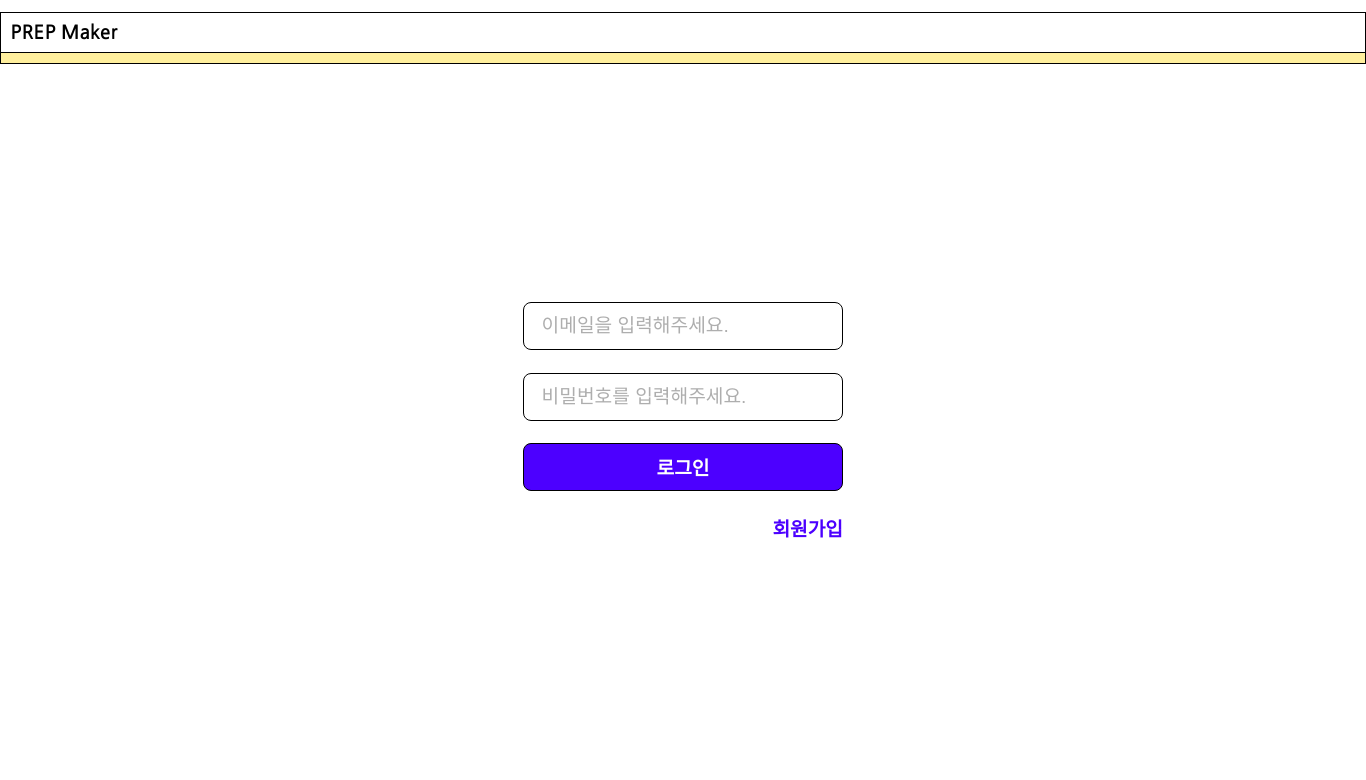
Test case: App › Writing Page › 로그아웃 하면 로그인 페이지로 전환된다.
Type "hyemin@email.com" into the field with placeholder "이메일을 입력해주세요." at (683, 326), box [532,311,834,341]
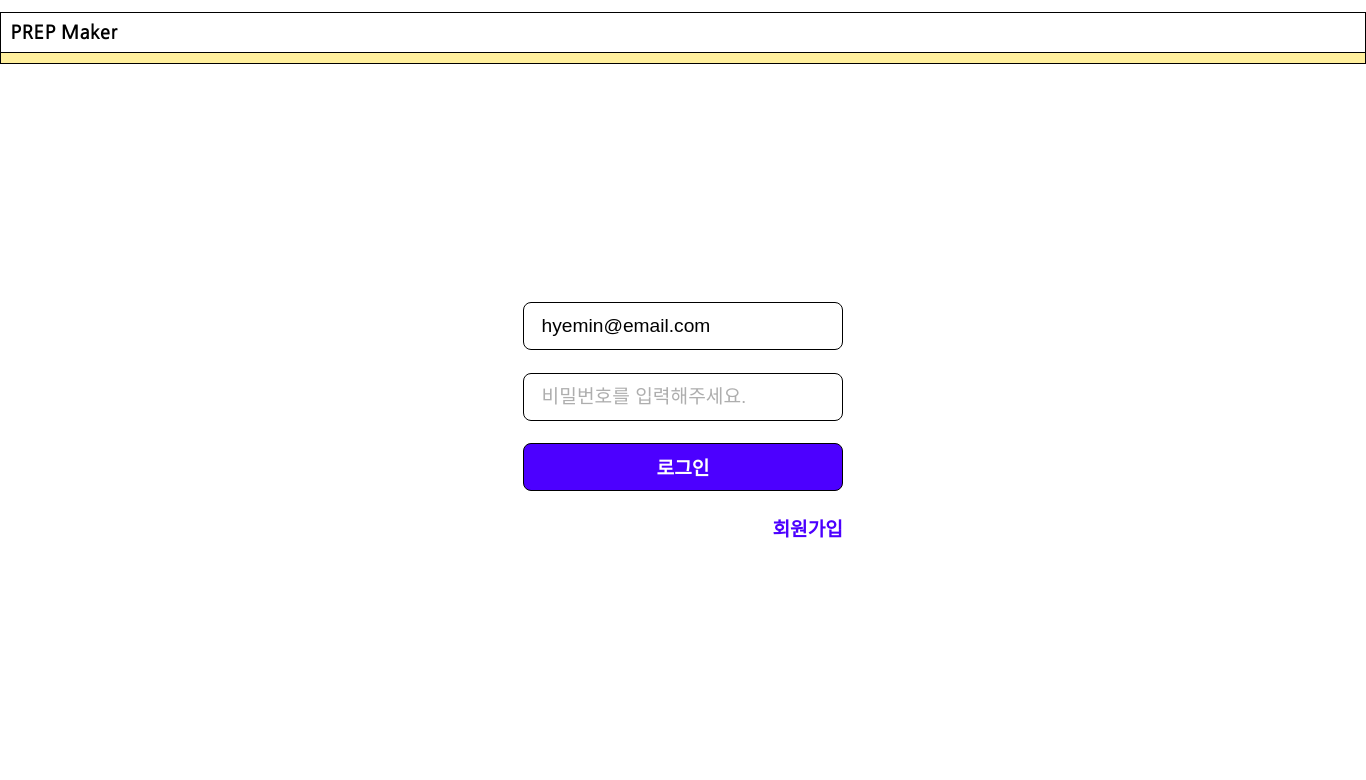
Type "password123" into the password field with placeholder "비밀번호를 입력해주세요." at (683, 397), box [532,382,834,412]
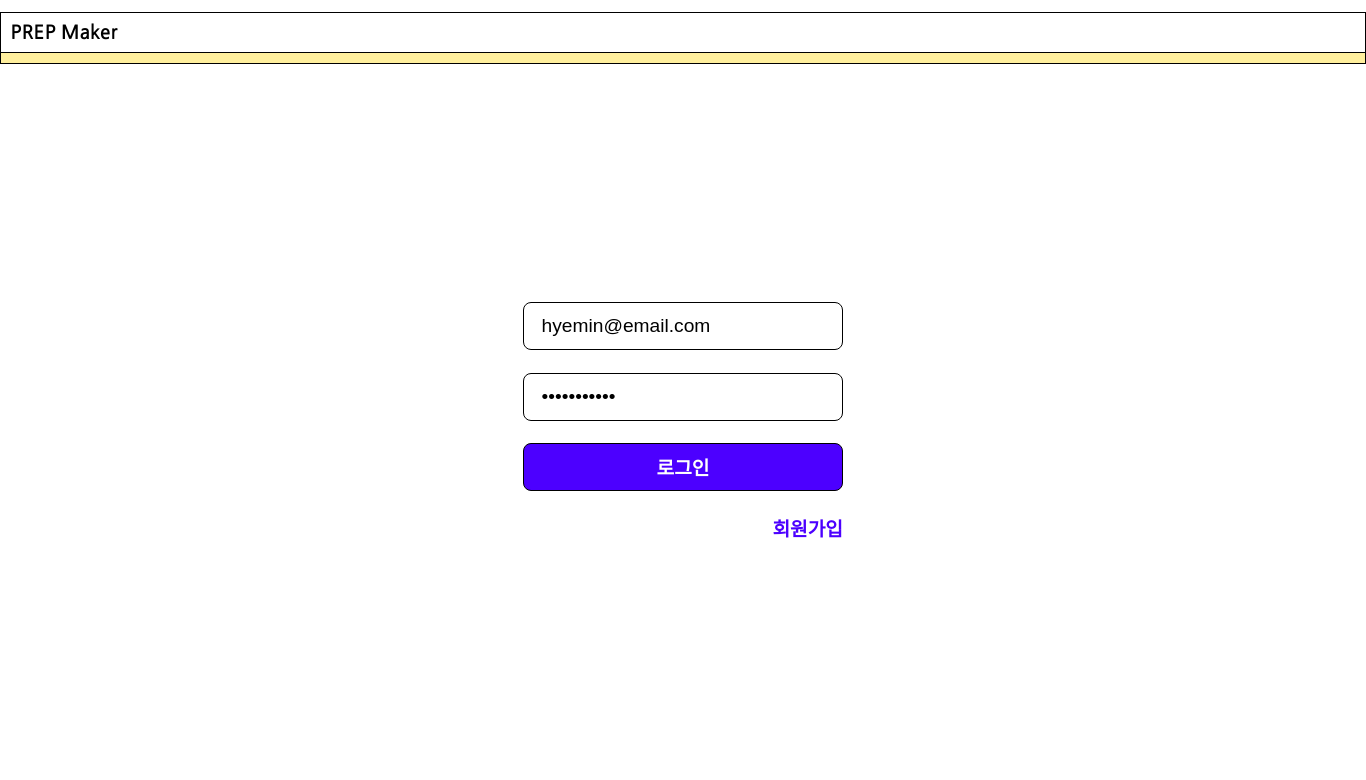
Click the button "로그인" at (683, 467), box [523,443,843,491]
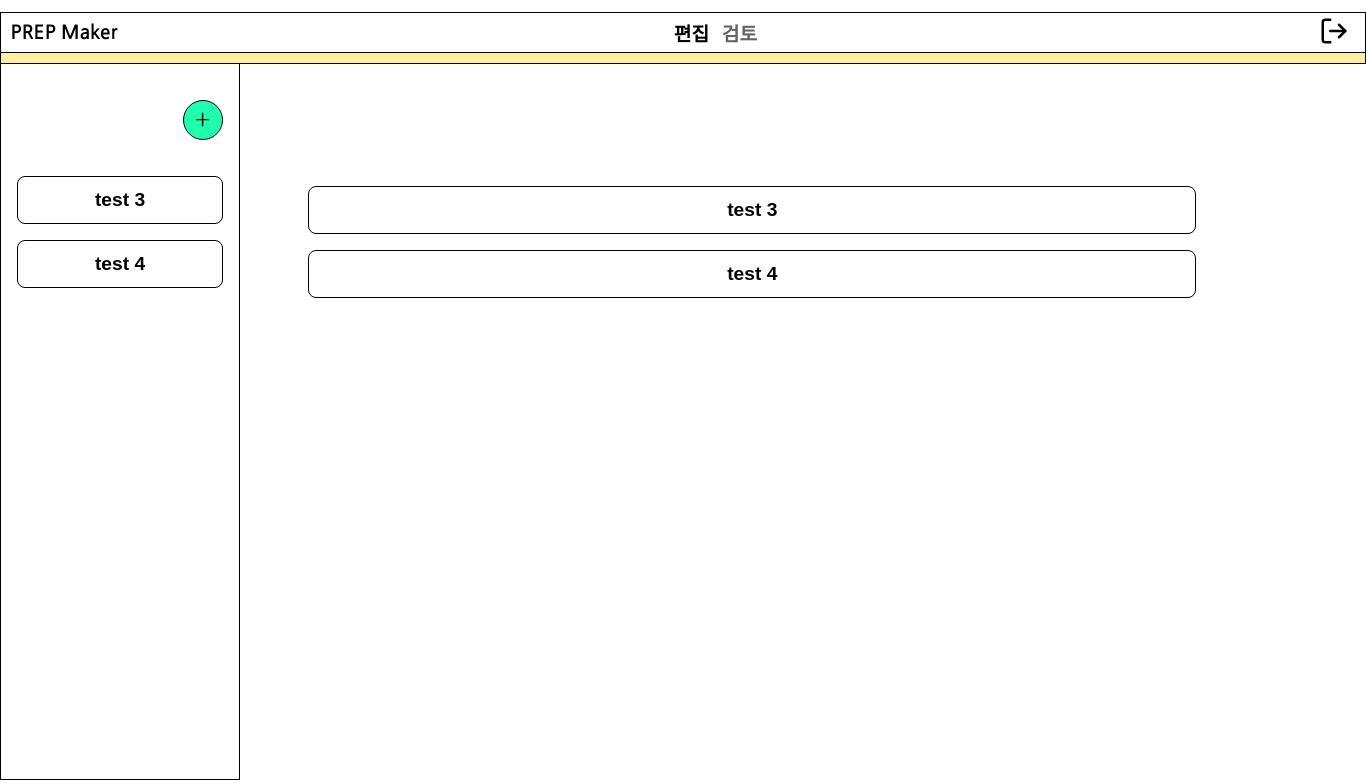
Click the button titled "logout" at (1334, 32), box [1313,15,1355,50]
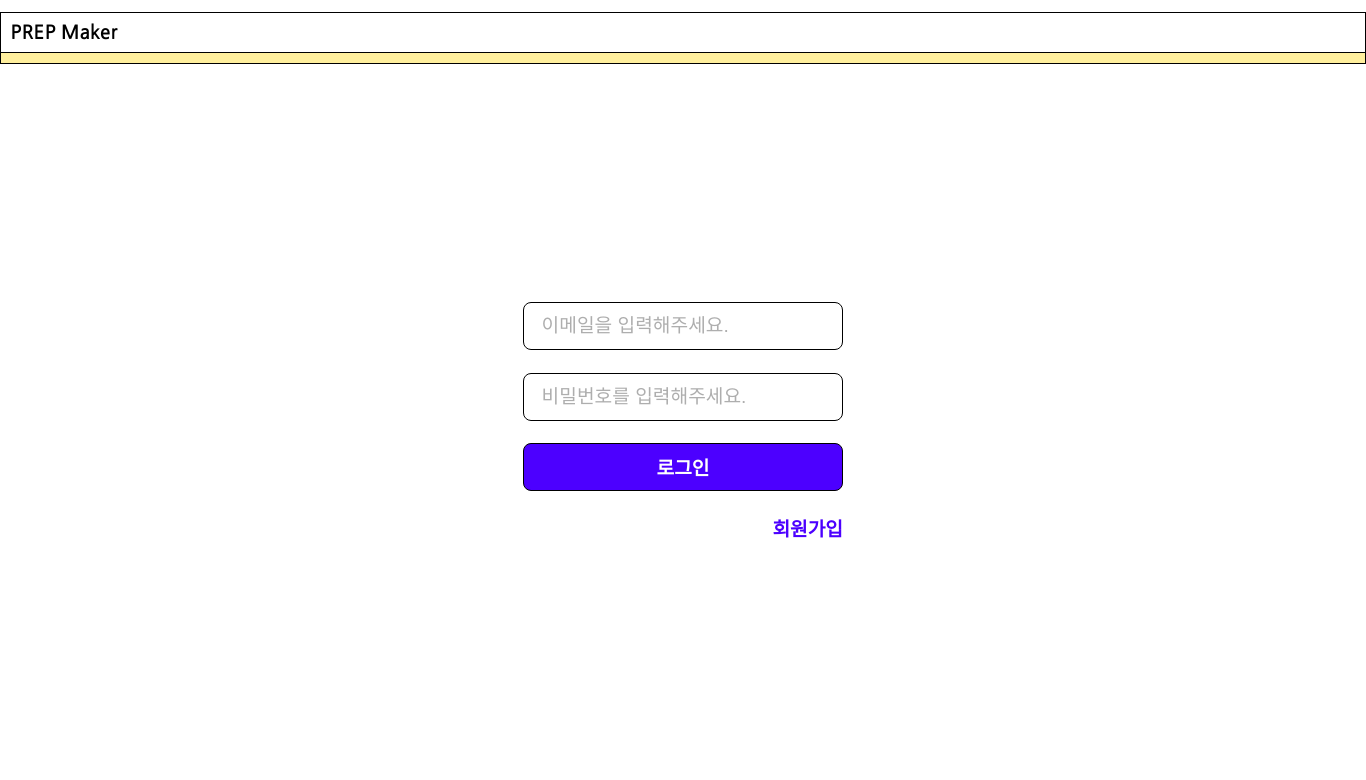
Expected: the button "로그인" is shown, [523,443,843,491]
